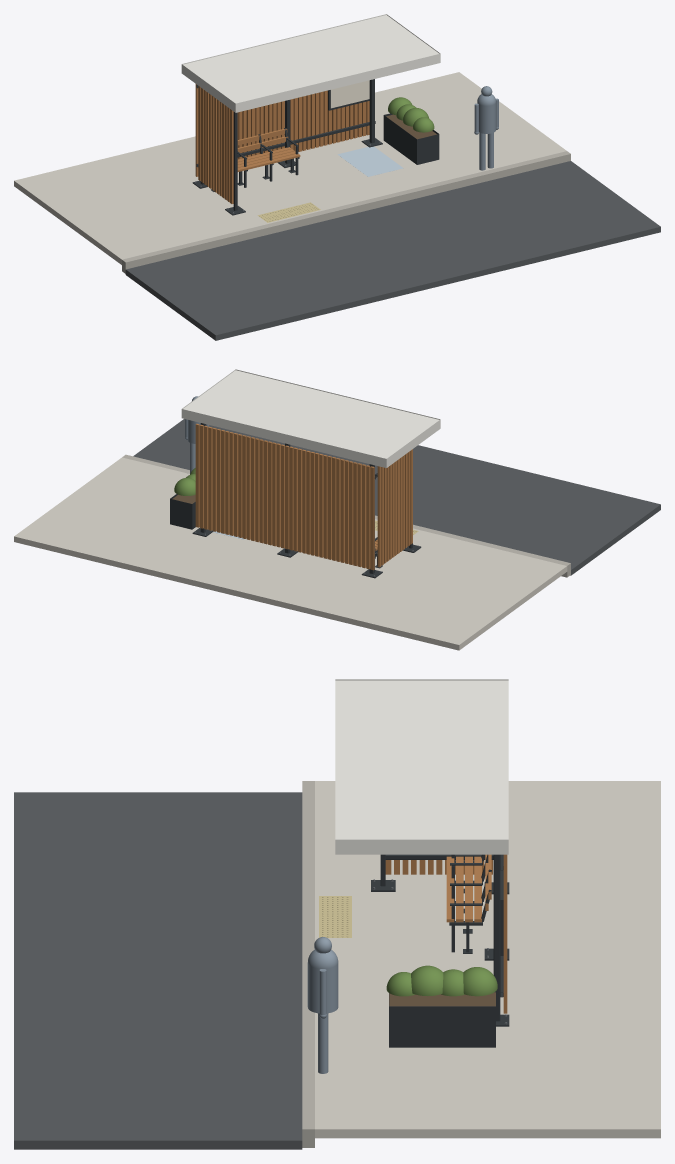
The model's file is sombra-da-ria.glb.
3 views of the same model, one above another, from view 1: azimuth 30°, elevation 25°; view 2: azimuth 150°, elevation 25°; view 3: azimuth 270°, elevation 25° (orthographic). The views are drawn at different scales.
Visible parts, largest first — view 1: A0-faixa-01, A0-passeio-01, A2.1-cobertura-01, A3.1-ripado-costas-01, A0-lancil-01, A3.1-ripado-lateral-01, A2.2-aba-01, A0-figura-01, A4.2-banco-assento-01, A0-zona-cadeira-rodas-01, A4.4-jardineira-03, A4.3-painel-cartaz-01 (+6 smaller); view 2: A0-passeio-01, A0-faixa-01, A3.1-ripado-costas-01, A2.1-cobertura-01, A3.1-ripado-lateral-01, A2.2-aba-02, A0-lancil-01, A4.4-jardineira-02, A2.2-aba-03, A0-figura-01; view 3: A0-faixa-01, A0-passeio-01, A2.1-cobertura-01, A4.4-jardineira-04, A0-lancil-01, A0-figura-01, A2.2-aba-04, A4.2-banco-assento-01, A0-piso-tatil-01, A4.1-banco-estrutura-01, A0-terra-01, A1.1-pilar-03 (+4 smaller).
Boxes of the visible parts, <box> form: A0-faixa-01: <box>125,161,660,340</box>; A0-passeio-01: <box>14,72,566,264</box>; A2.1-cobertura-01: <box>183,15,439,103</box>; A3.1-ripado-costas-01: <box>195,84,369,176</box>; A0-lancil-01: <box>122,151,570,273</box>; A3.1-ripado-lateral-01: <box>198,86,233,203</box>; A2.2-aba-01: <box>235,53,440,112</box>; A0-figura-01: <box>474,86,498,170</box>; A4.2-banco-assento-01: <box>237,129,300,171</box>; A0-zona-cadeira-rodas-01: <box>337,146,403,176</box>; A4.4-jardineira-03: <box>383,115,416,164</box>; A4.3-painel-cartaz-01: <box>330,80,369,108</box>; A0-passeio-01: <box>14,457,567,650</box>; A0-faixa-01: <box>133,419,660,575</box>; A3.1-ripado-costas-01: <box>195,423,374,570</box>; A2.1-cobertura-01: <box>183,370,438,458</box>; A3.1-ripado-lateral-01: <box>377,449,412,567</box>; A2.2-aba-02: <box>181,409,386,467</box>; A0-lancil-01: <box>122,454,570,577</box>; A4.4-jardineira-02: <box>170,498,192,529</box>; A2.2-aba-03: <box>386,419,440,467</box>; A0-figura-01: <box>185,396,209,473</box>; A0-faixa-01: <box>14,792,302,1149</box>; A0-passeio-01: <box>315,781,660,1138</box>; A2.1-cobertura-01: <box>335,680,508,839</box>; A4.4-jardineira-04: <box>389,1006,495,1047</box>; A0-lancil-01: <box>302,781,314,1147</box>; A0-figura-01: <box>307,937,338,1073</box>; A2.2-aba-04: <box>335,839,508,854</box>; A4.2-banco-assento-01: <box>446,854,491,922</box>; A0-piso-tatil-01: <box>319,896,351,937</box>; A4.1-banco-estrutura-01: <box>449,854,491,953</box>; A0-terra-01: <box>389,992,495,1006</box>; A1.1-pilar-03: <box>493,854,500,1021</box>.
Bounding box in the file's own units: 10000 × 3460 × 7850.
